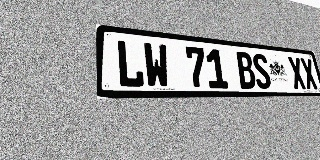1: (204, 48, 228, 89)
7: (184, 46, 209, 88)
B: (235, 51, 257, 89)
L: (116, 39, 145, 88)
S: (251, 53, 273, 89)
W: (143, 42, 170, 88)
X: (287, 57, 307, 89), (300, 58, 318, 89)
